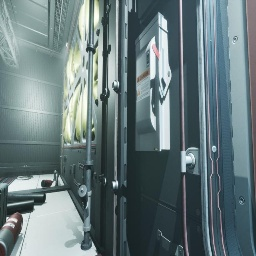FireExtinguisher ]: (41, 180, 54, 188)
NitrogenTank ,: (0, 212, 23, 256)
SafetySwitchPanel ,: (135, 12, 171, 151)
